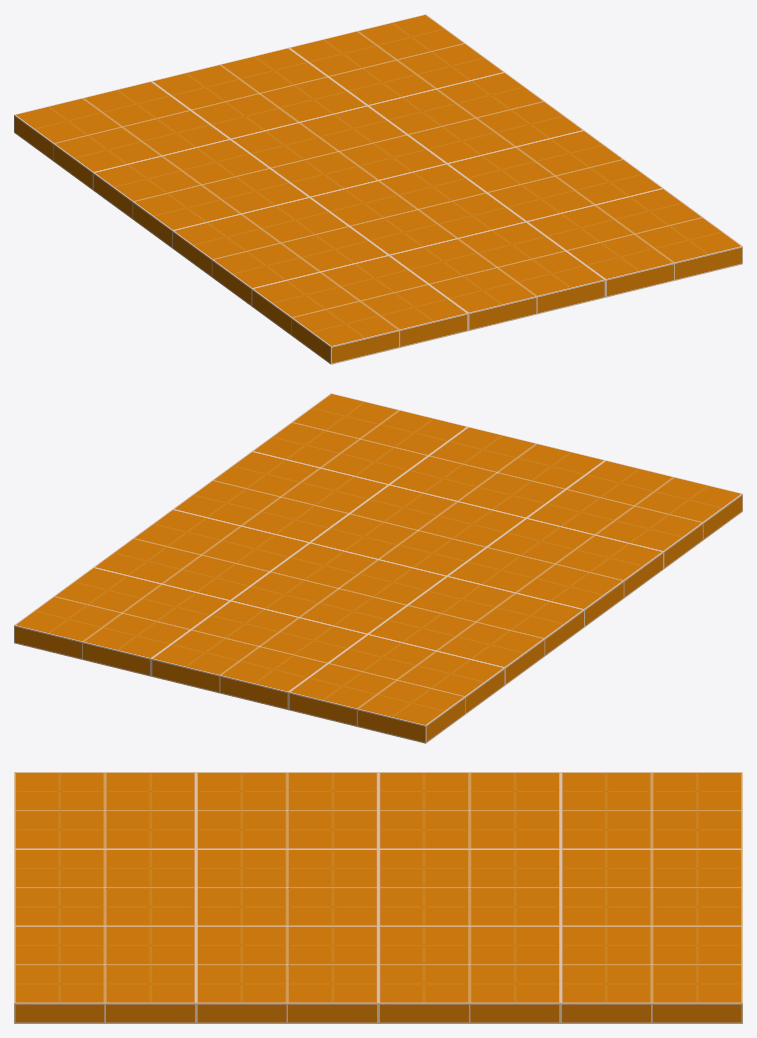
The model's file is Plate8_3x4.obj.
3 views of the same model, one above another, from view 1: azimuth 30°, elevation 25°; view 2: azimuth 150°, elevation 25°; view 3: azimuth 270°, elevation 25° (orthographic). The views are drawn at different scales.
Visible parts, largest first — view 1: Plate8_3x4_Cube.383; view 2: Plate8_3x4_Cube.383; view 3: Plate8_3x4_Cube.383.
Part boxes in pixels (x1,y1,x2,y2): Plate8_3x4_Cube.383: (14,14,742,364); Plate8_3x4_Cube.383: (14,393,742,743); Plate8_3x4_Cube.383: (14,772,742,1023).
Size of the model in its own units: 3 by 0.125 by 4.
1 material, 1 textured.
